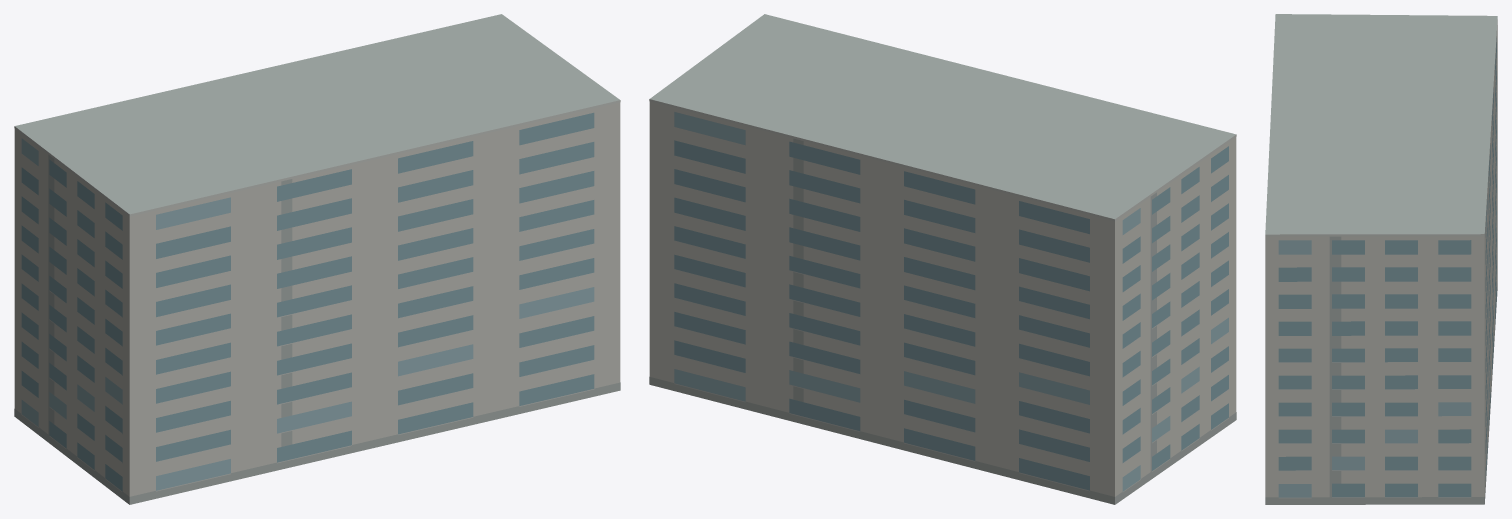
The model's file is residential-d52635ca-905c-4976-b1e4-1c2b652e6fd2.glb.
3 renders of one model, left to right at view 1: azimuth 30°, elevation 25°; view 2: azimuth 150°, elevation 25°; view 3: azimuth 270°, elevation 25°, orthographic. The views are drawn at different scales.
Parts seen in each view (by area): view 1: residential-d52635ca-905c-4976-b1e4-1c2b652e6fd2.tmp; view 2: residential-d52635ca-905c-4976-b1e4-1c2b652e6fd2.tmp; view 3: residential-d52635ca-905c-4976-b1e4-1c2b652e6fd2.tmp.
Boxes of the visible parts, box(x1,y1,x2,y2) form: residential-d52635ca-905c-4976-b1e4-1c2b652e6fd2.tmp: box(14, 14, 620, 504); residential-d52635ca-905c-4976-b1e4-1c2b652e6fd2.tmp: box(649, 14, 1236, 504); residential-d52635ca-905c-4976-b1e4-1c2b652e6fd2.tmp: box(1265, 14, 1497, 504).
Bounding box in the file's own units: 53.34 × 30.5 × 23.77.
